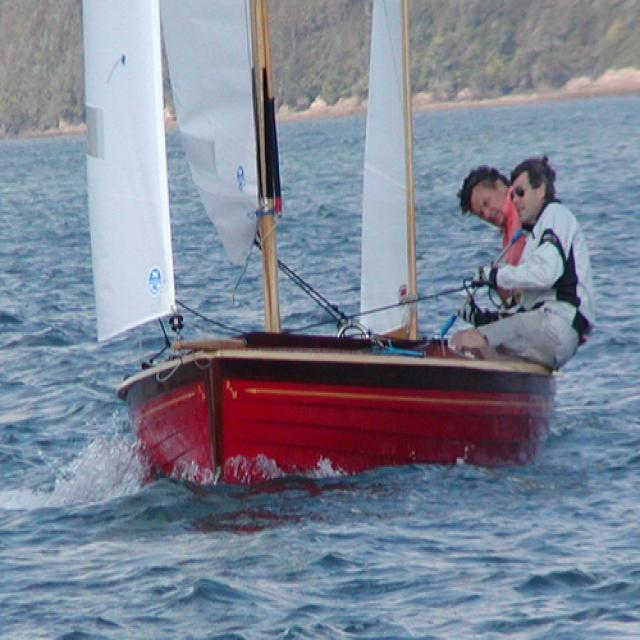Ship: (71, 1, 581, 501)
